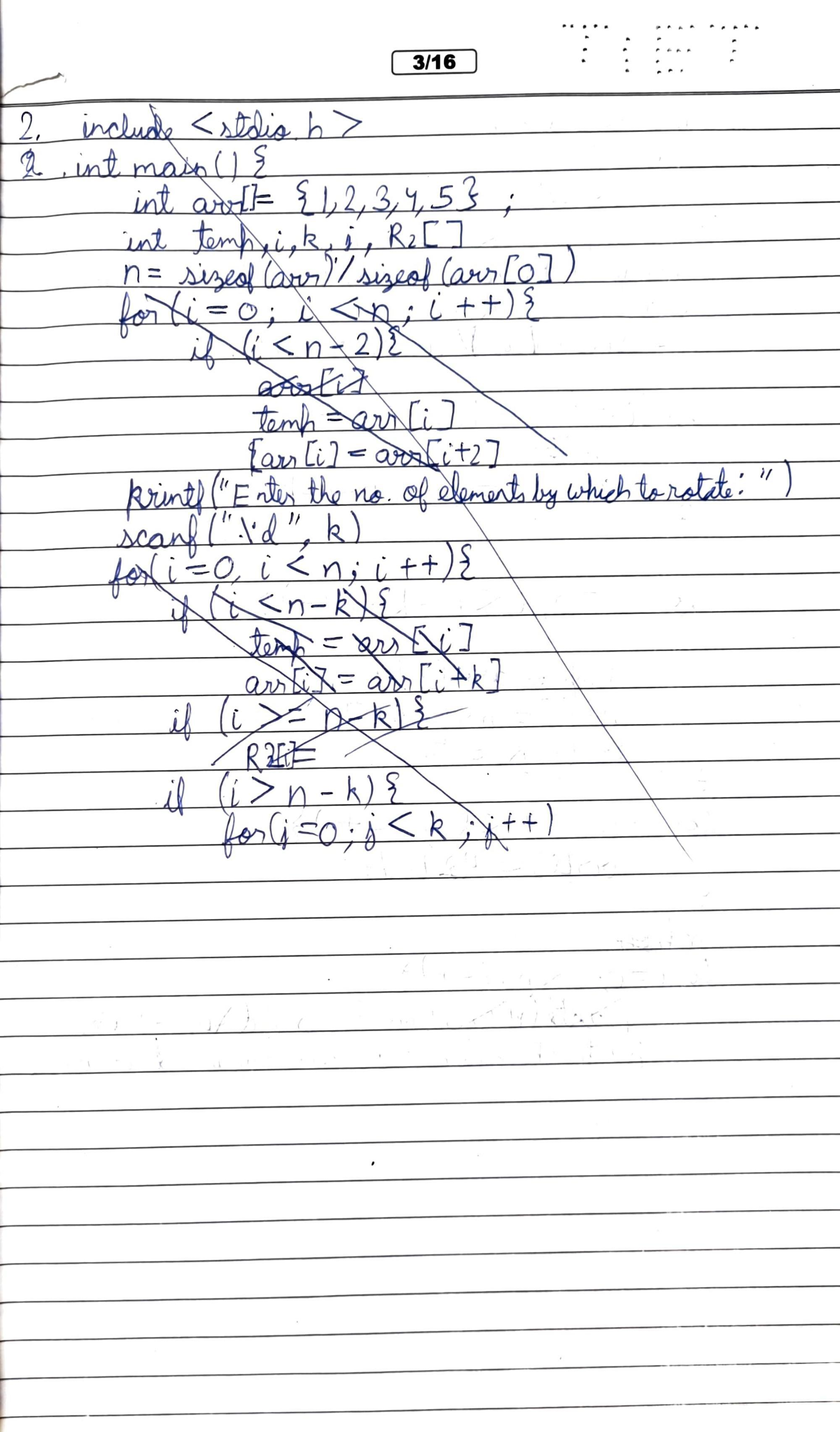cuttings: (72, 101, 805, 875), (19, 146, 46, 179)
